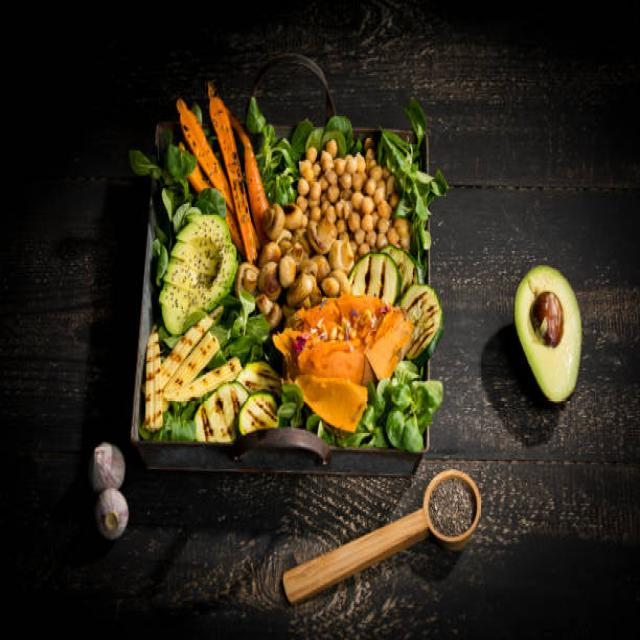paper: (514, 252, 603, 413), (208, 87, 276, 253), (163, 210, 243, 320), (85, 489, 132, 539), (87, 435, 131, 488)
